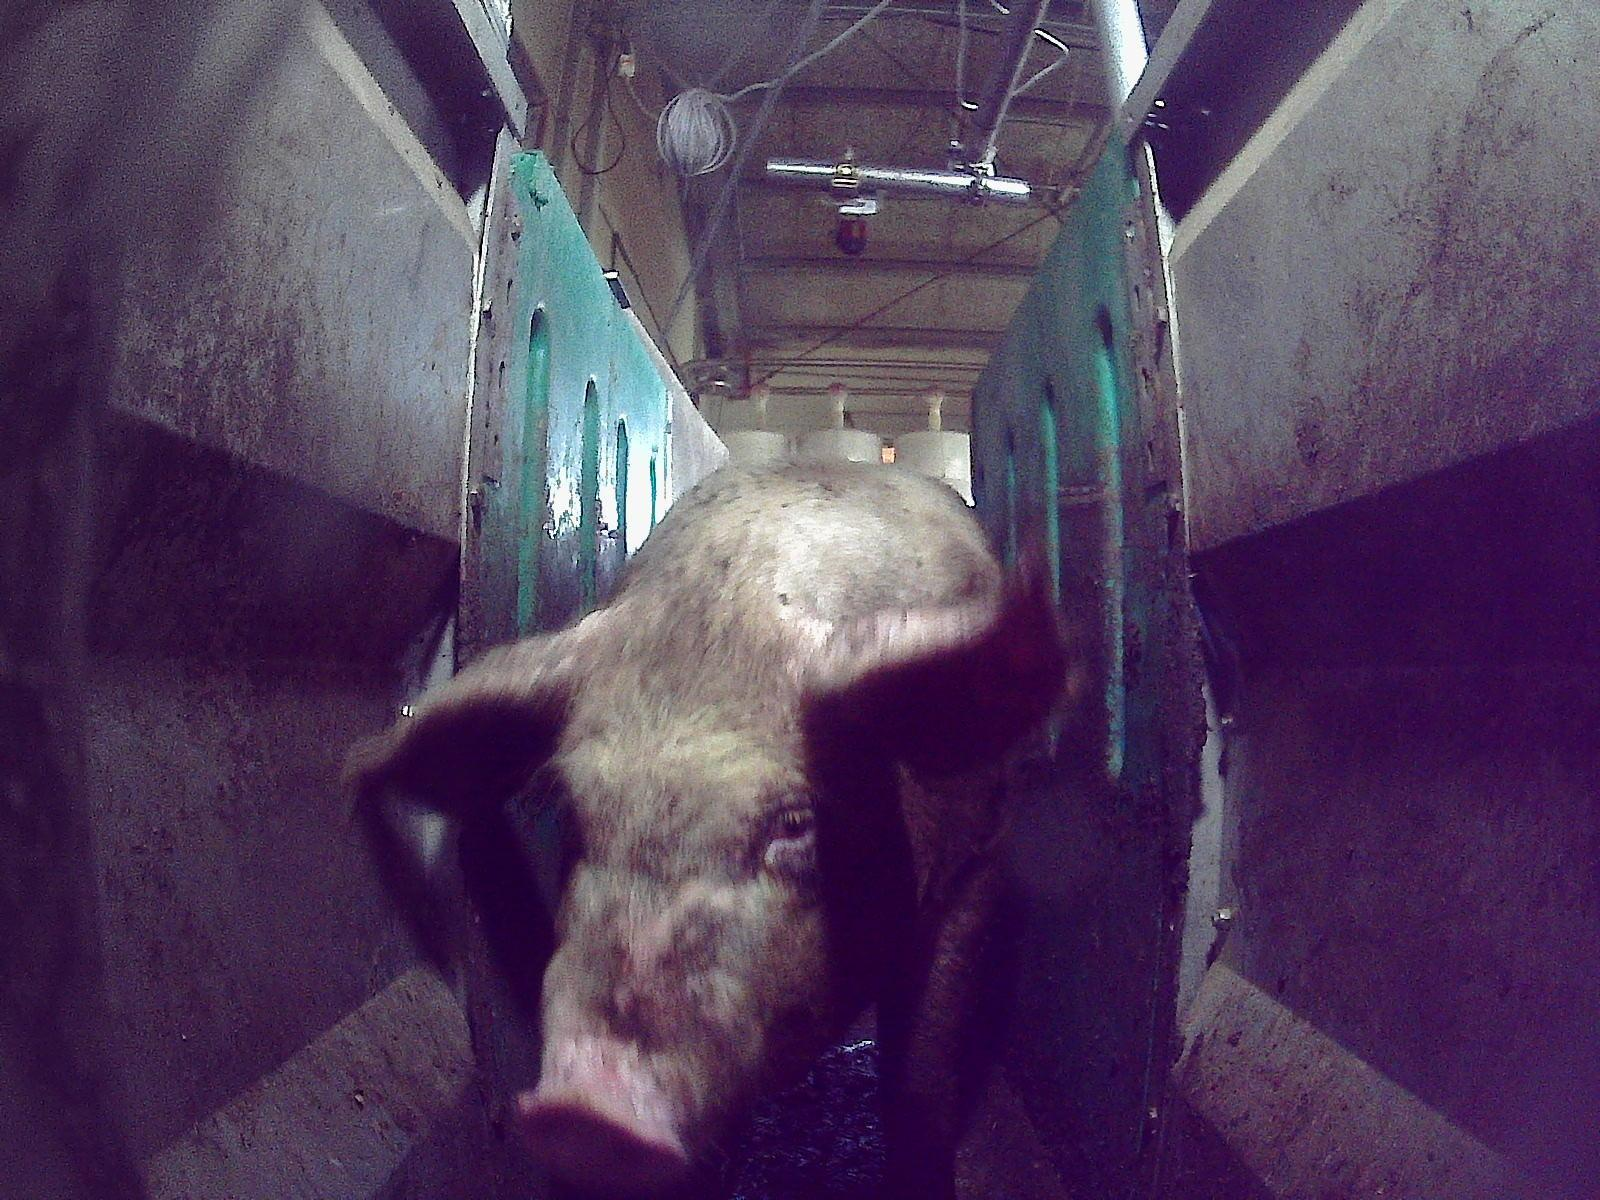Face: (516, 593, 888, 1192)
